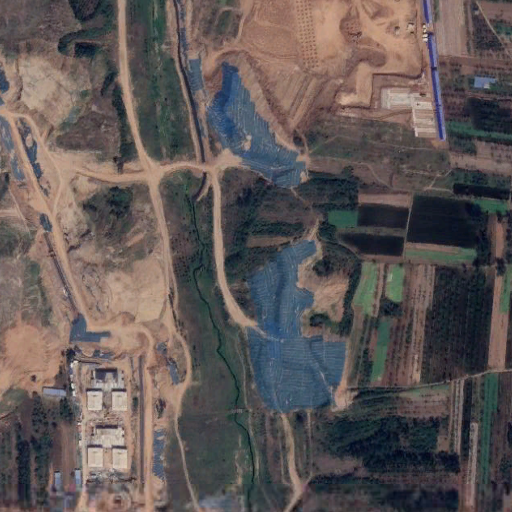cw: (249, 237, 346, 410), (186, 57, 309, 185)
